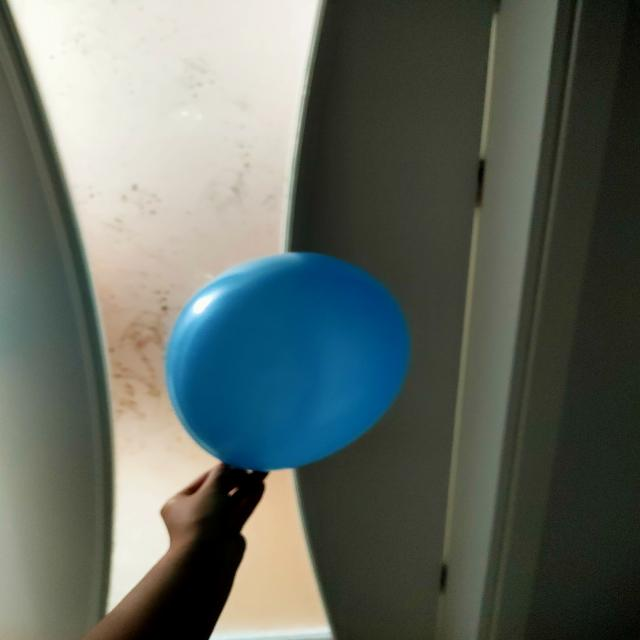blue: (166, 251, 403, 474)
